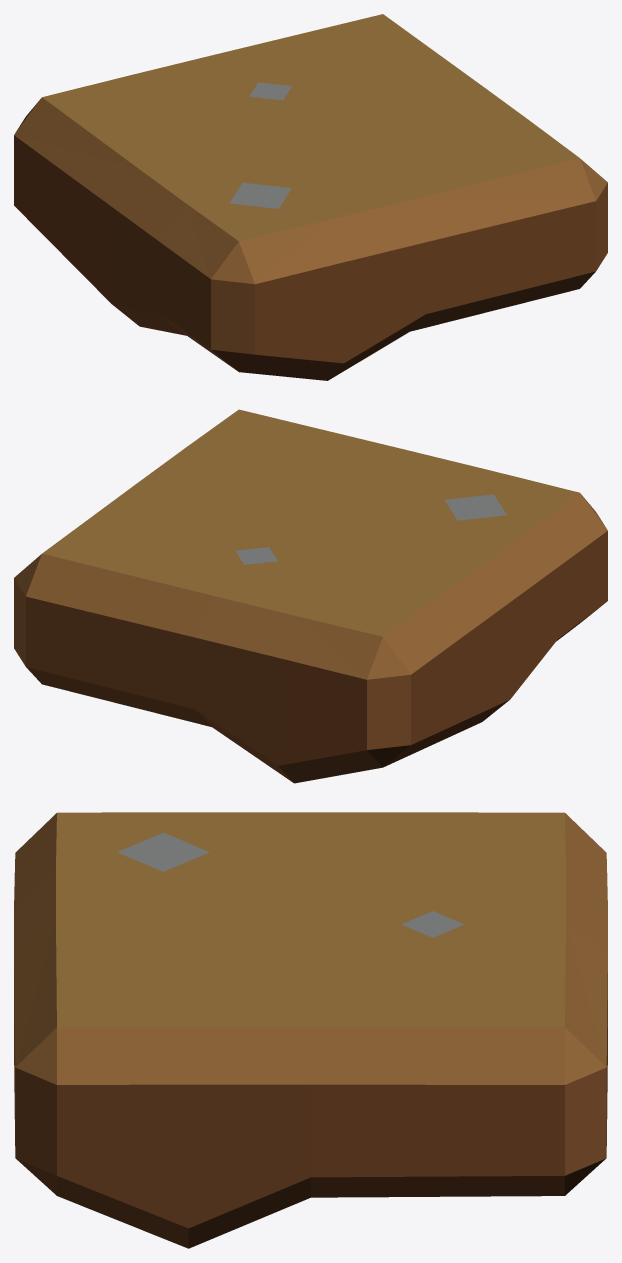
The model's file is m_kub_dirt_floorPlate.FBX.
The picture shows the model from 3 angles, top to bottom: view 1: azimuth 30°, elevation 25°; view 2: azimuth 150°, elevation 25°; view 3: azimuth 270°, elevation 25°; orthographic projection. The views are drawn at different scales.
Parts seen in each view (by area): view 1: m_kub_dirt_floorPlate; view 2: m_kub_dirt_floorPlate; view 3: m_kub_dirt_floorPlate.
Boxes of the visible parts, x1,y1,x2,y2 form: m_kub_dirt_floorPlate: (14, 14, 607, 380); m_kub_dirt_floorPlate: (14, 409, 607, 783); m_kub_dirt_floorPlate: (14, 812, 607, 1248).
Bounding box in the file's own units: 2.18 × 0.8969 × 2.18.
